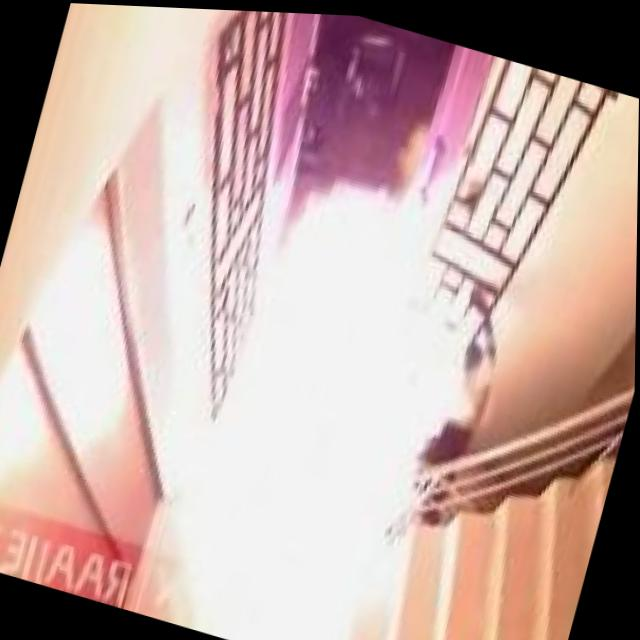fire: (149, 101, 533, 640)
